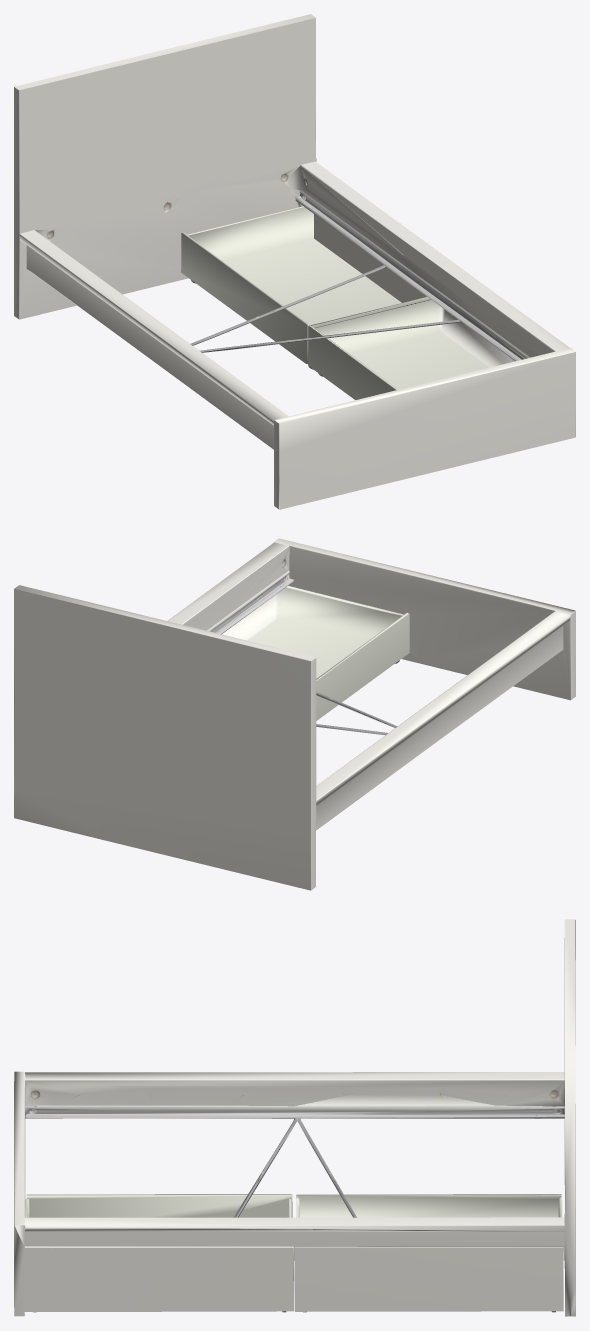
Rendered from MALM_79012991.glb.
The picture shows the model from 3 angles, top to bottom: view 1: azimuth 30°, elevation 25°; view 2: azimuth 150°, elevation 25°; view 3: azimuth 270°, elevation 25°; orthographic projection. The views are drawn at different scales.
Visible parts, largest first — view 1: ProcessedMeshNode; view 2: ProcessedMeshNode; view 3: ProcessedMeshNode.
Boxes of the visible parts, x1,y1,x2,y2 form: ProcessedMeshNode: (14,14,575,509); ProcessedMeshNode: (14,538,575,890); ProcessedMeshNode: (14,919,575,1316).
Bounding box in the file's own units: 1.36 × 1 × 2.09.
1 material, 1 textured.
